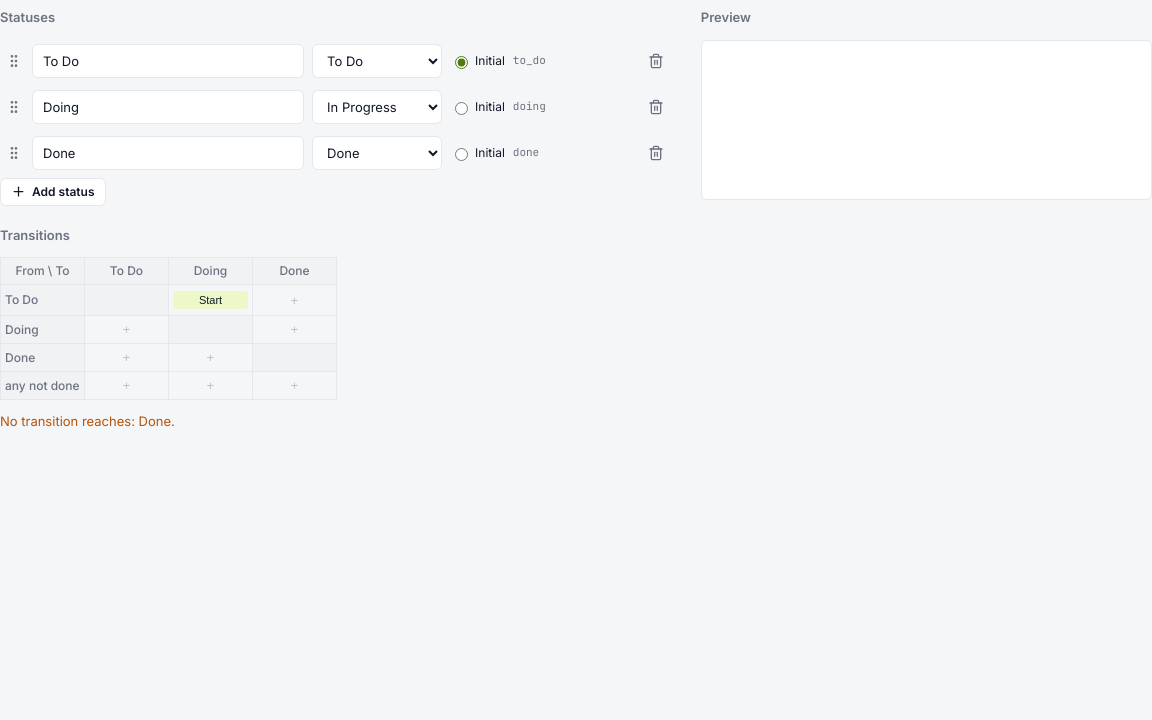
Scenario: WorkflowEditor › adds a transition to done with limited resolutions
Click the button named "Add transition from Doing to Done" at (294, 330), box [257,320,332,339]
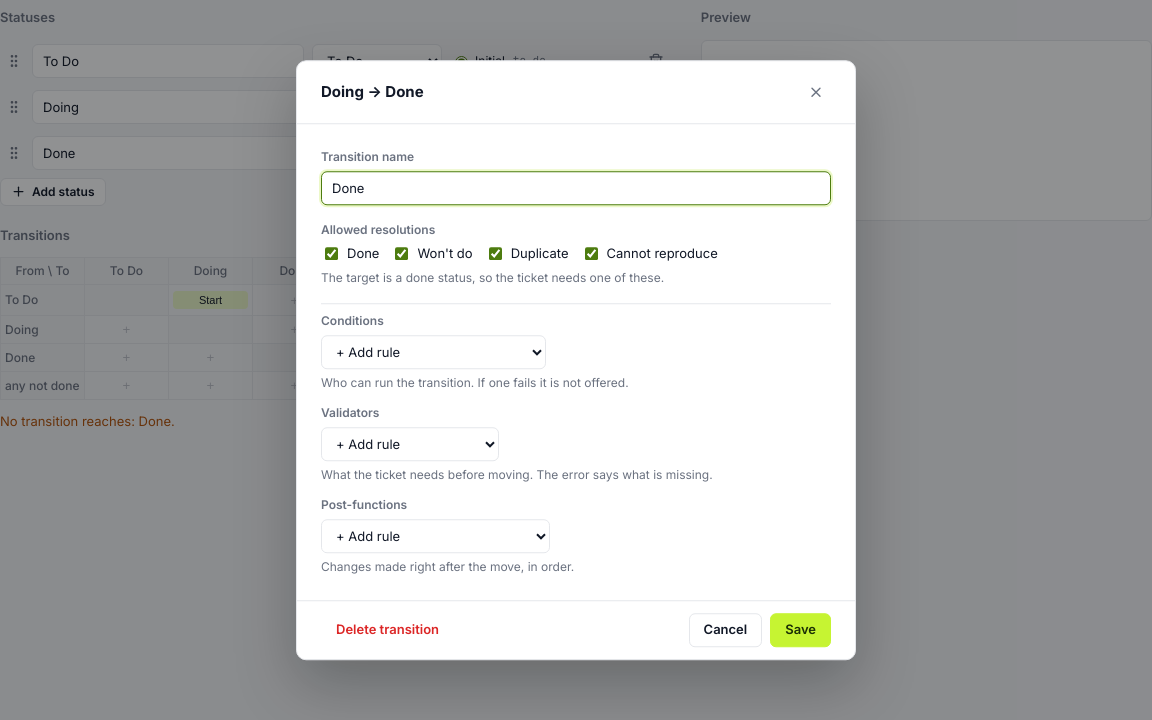
Replace the text in the field labelled "Transition name" with "Finish" at (576, 188), box [321,171,831,205]
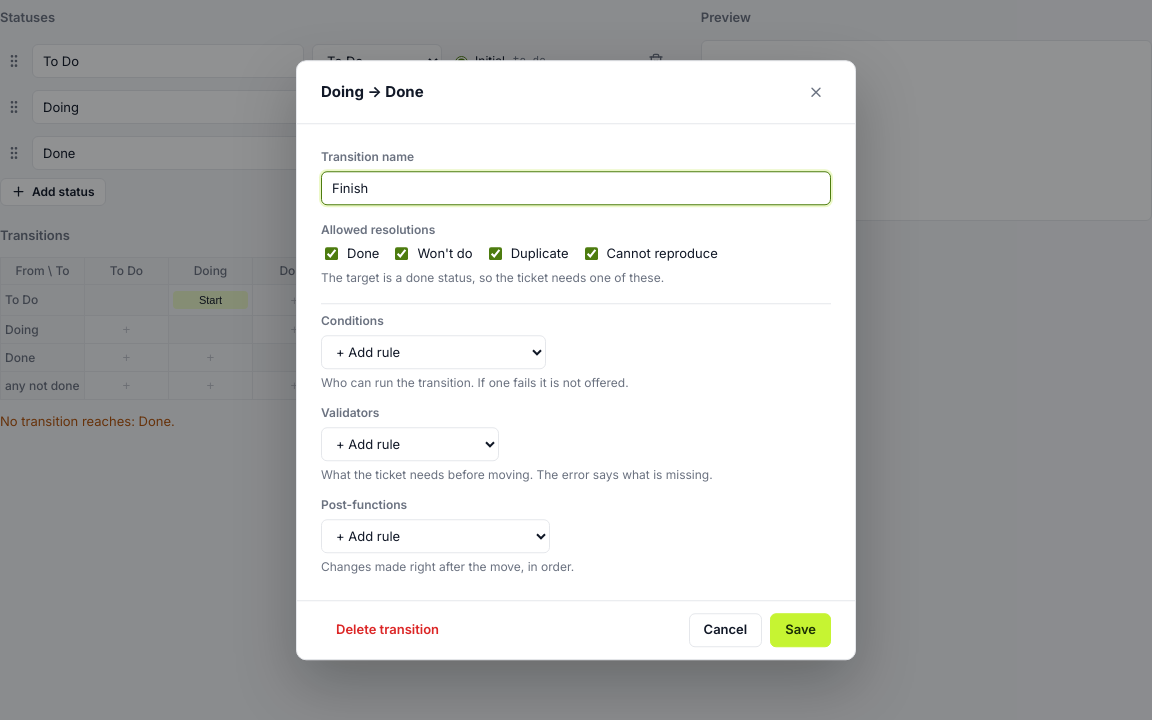
Click the checkbox labelled "Won't do" at (402, 254), box [395,248,408,260]
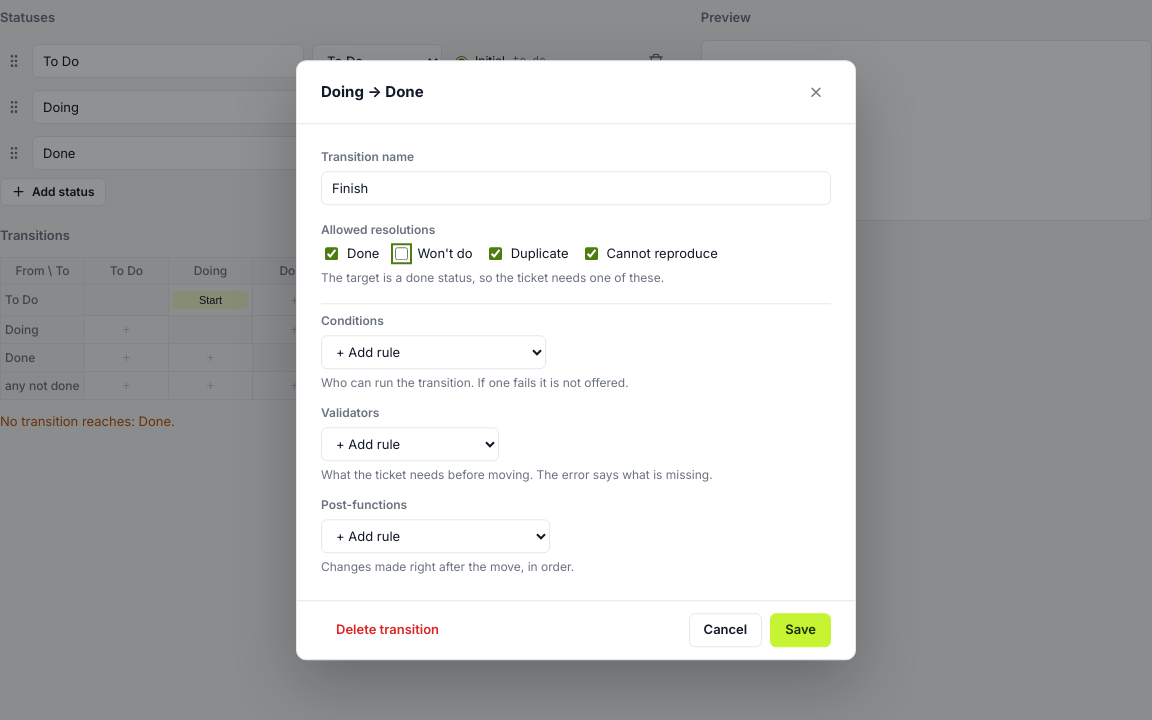
Click the button "Save" at (801, 630), box [770,613,831,647]
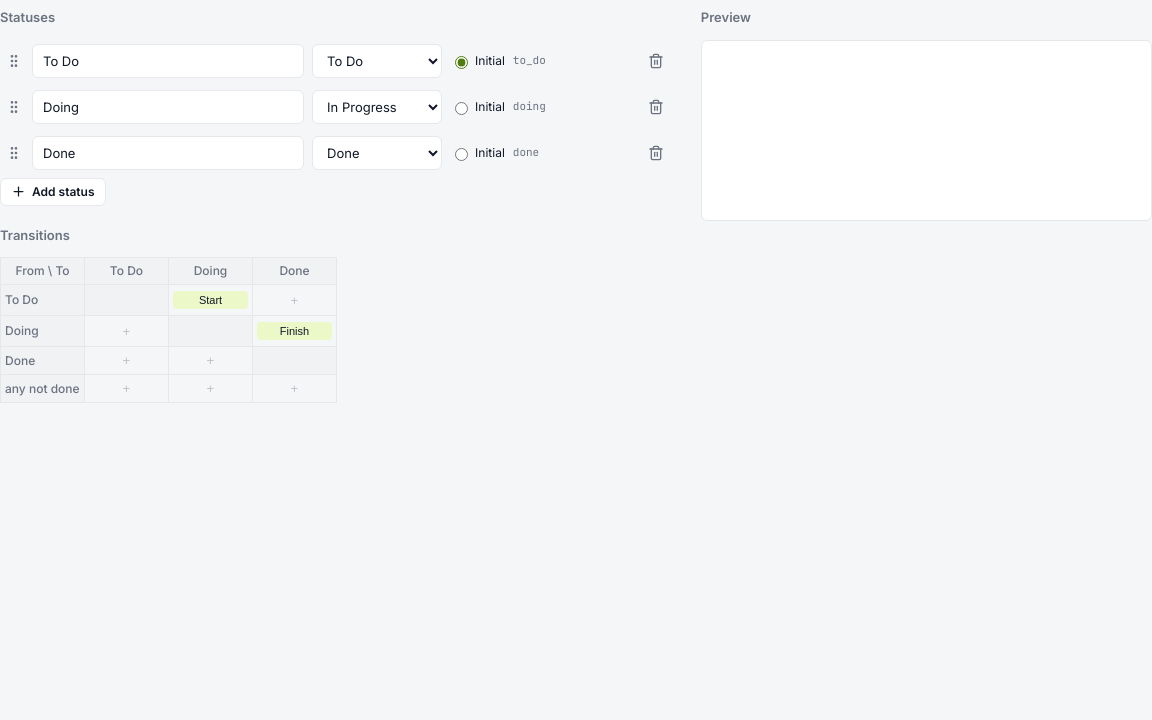
expect the button "Finish" is shown: met, box [257,322,332,340]
